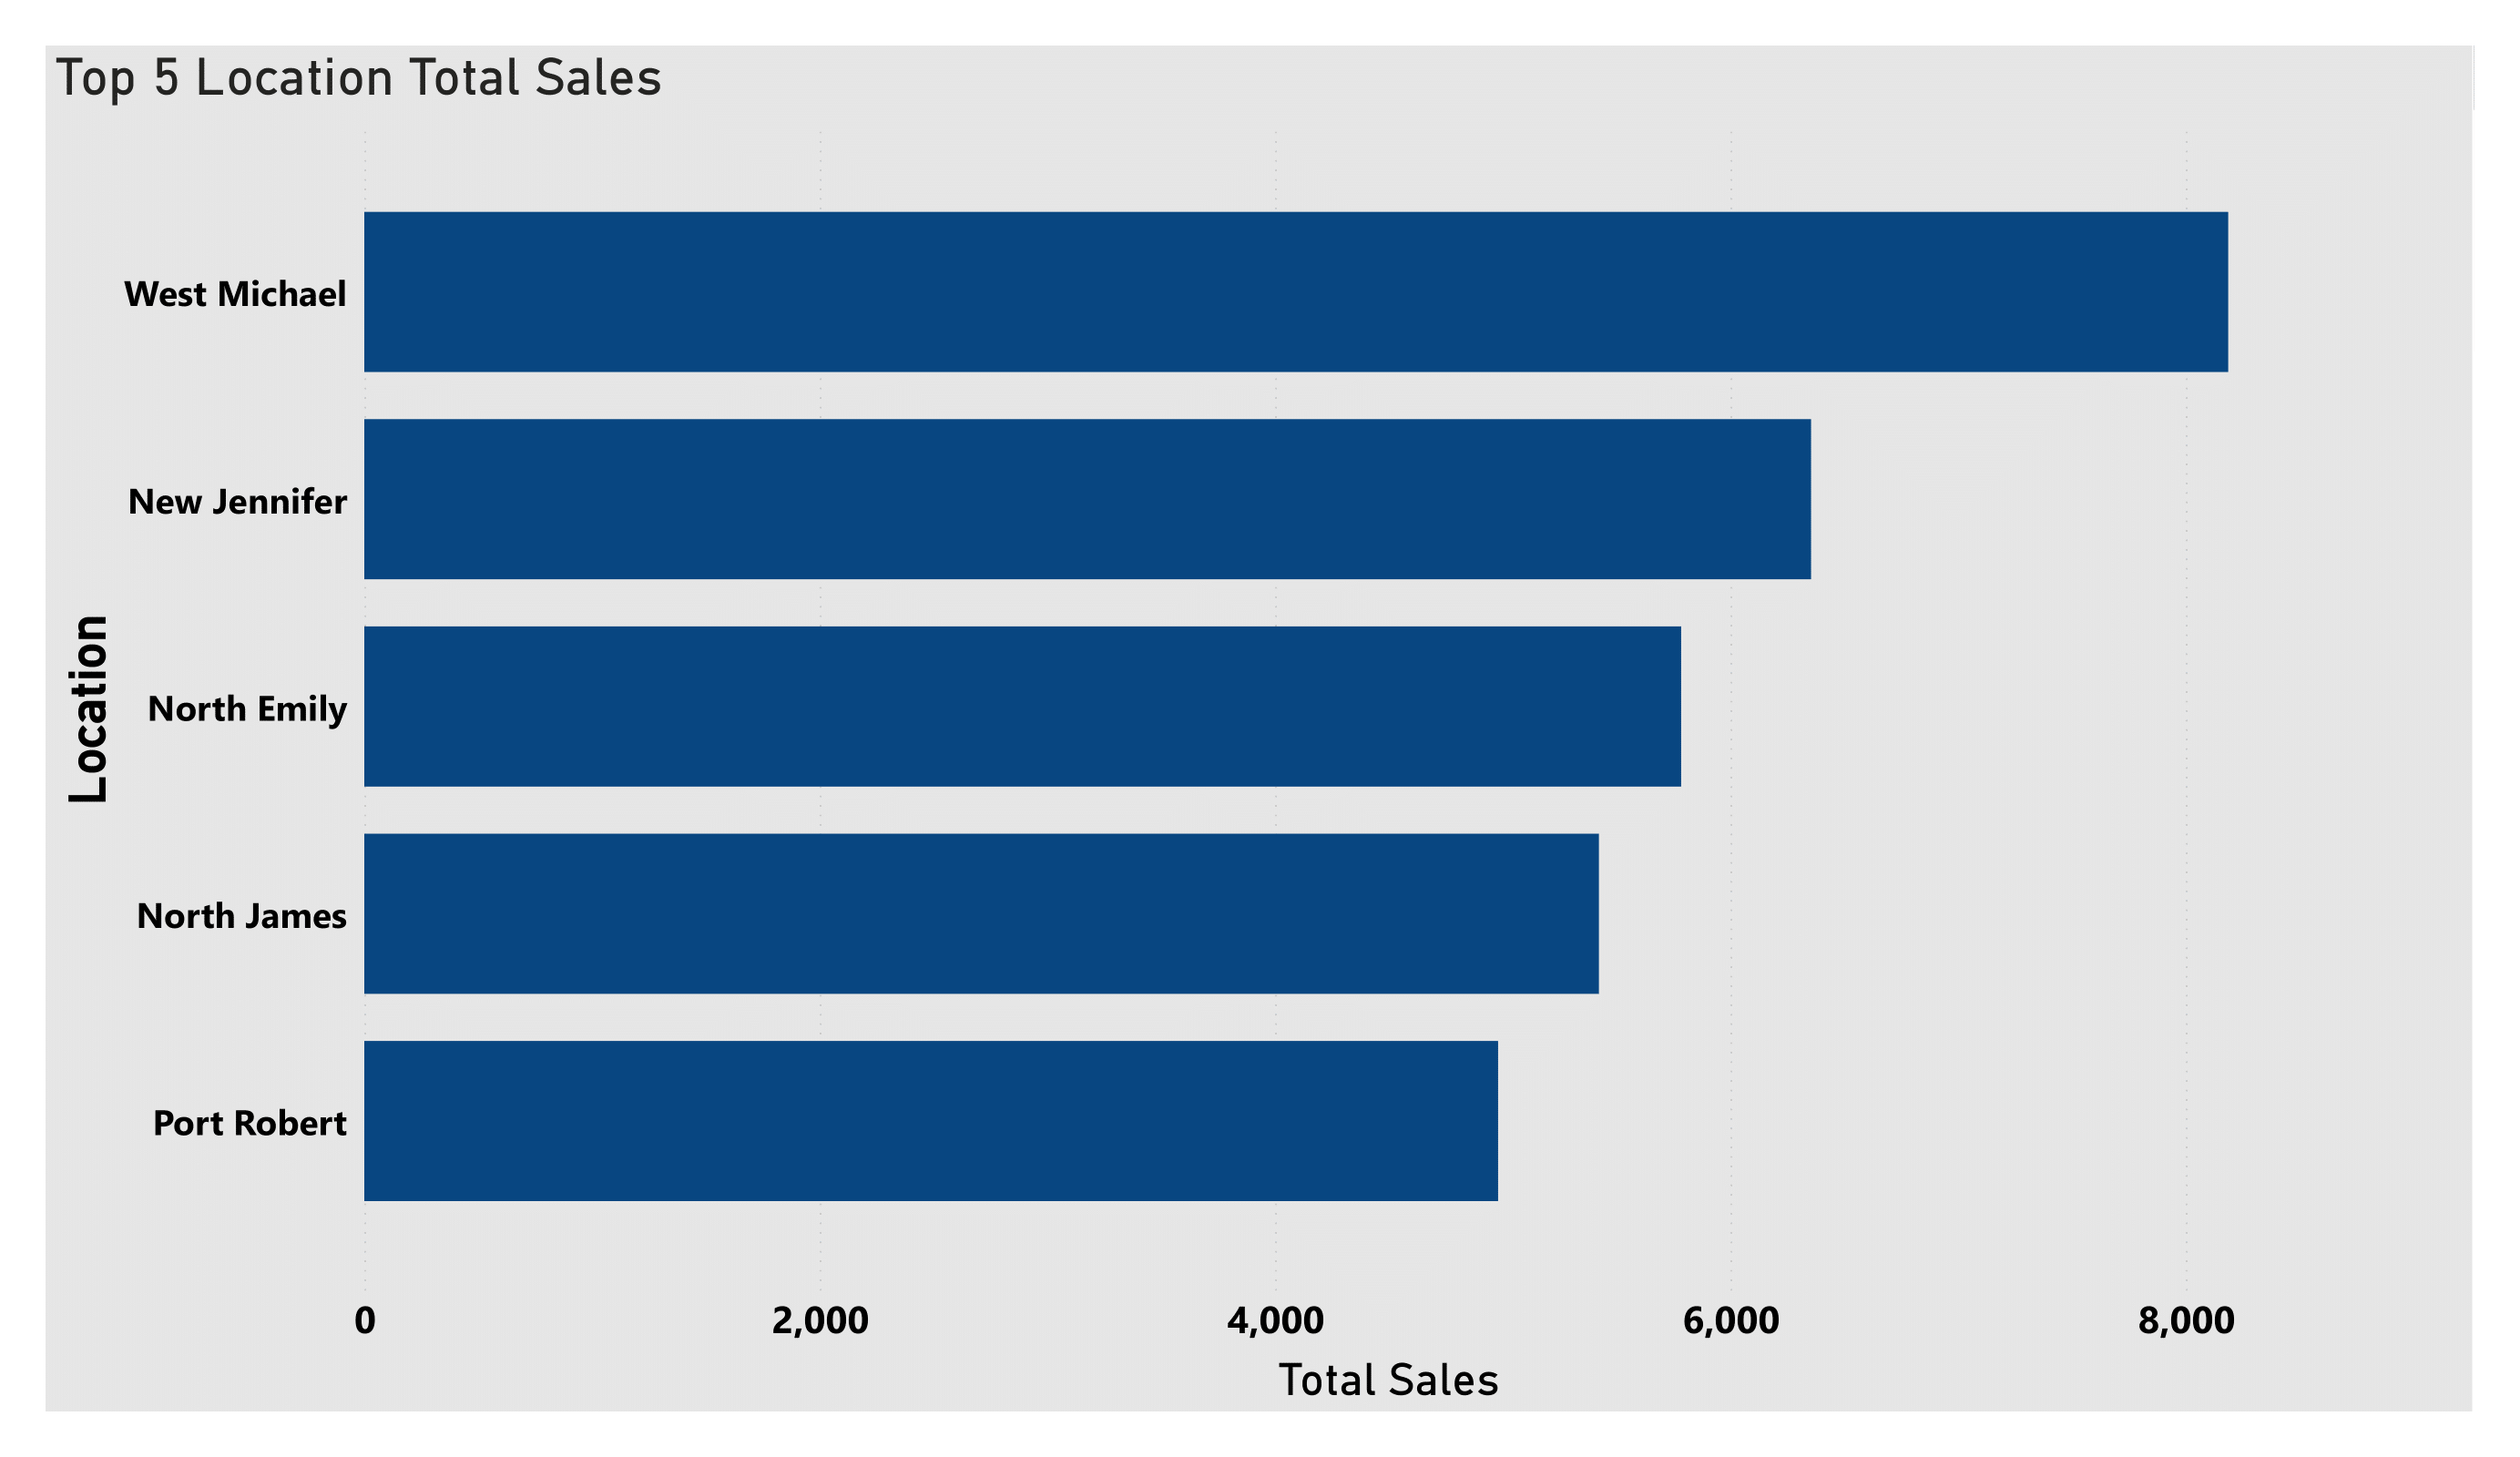

What the dashboard file says about the page in this screenshot:
{"tool":"powerbi","page":{"name":"Top 5 Location Total Sales","canvas":[1280,720],"ordinal":7},"visuals":[{"type":"barChart","title":"Top 5 Location Total Sales","fields":{"Category":["synthetic_ecommerce_data.Ubicación Geográfica"],"Y":["Sum(synthetic_ecommerce_data.Ventas Totales)"]},"box":[0,0,1279.4,720.7],"z":0}]}

Visuals, with their boxes on the page's 1280x720 design canvas (x1, y1, x2, y2). These are canvas units, not pixel positions in the 2520x1457 screenshot, which may show the page scaled, cropped or inside an application window:
"Top 5 Location Total Sales" barChart: [x1=0, y1=0, x2=1279, y2=721]
